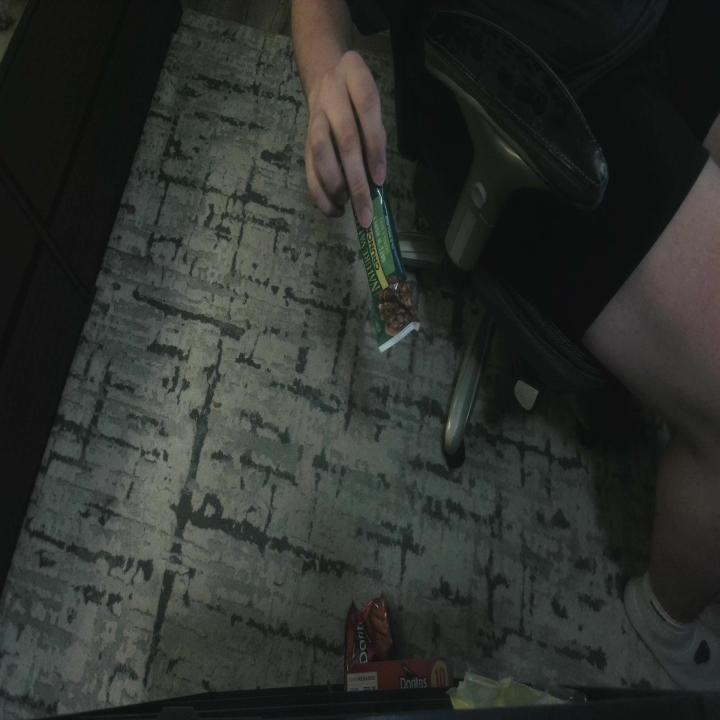Granola Bar: (360, 222, 423, 360)
